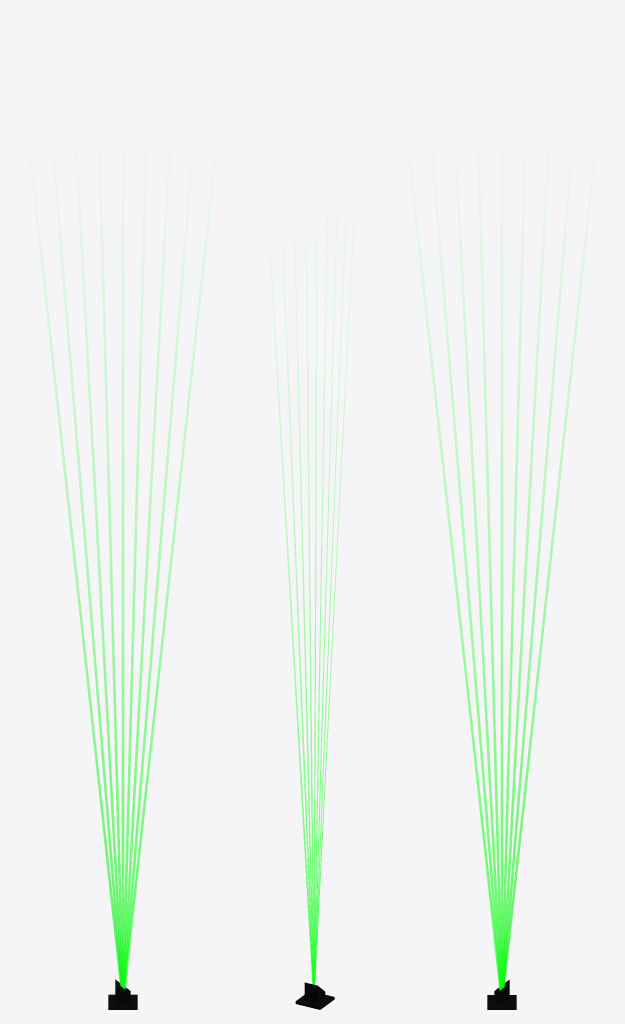
The model's file is Lazer Lights asset.glb.
3 views of the same model, side by side, from view 1: azimuth 90°, elevation 25°; view 2: azimuth 150°, elevation 25°; view 3: azimuth 270°, elevation 25° (orthographic). The views are drawn at different scales.
Parts seen in each view (by area): view 1: Gradient Light, Stand; view 2: Gradient Light, Stand; view 3: Gradient Light, Stand.
Part boxes in pixels (x1,y1,x2,y2): Gradient Light: (52,356,193,989); Stand: (108,979,137,1009); Gradient Light: (279,363,346,984); Stand: (295,982,334,1009); Gradient Light: (431,356,572,990); Stand: (487,979,516,1009).
Size of the model in its own units: 0.3048 by 11.25 by 2.24.
Materials: 2 (1 with a texture image).
